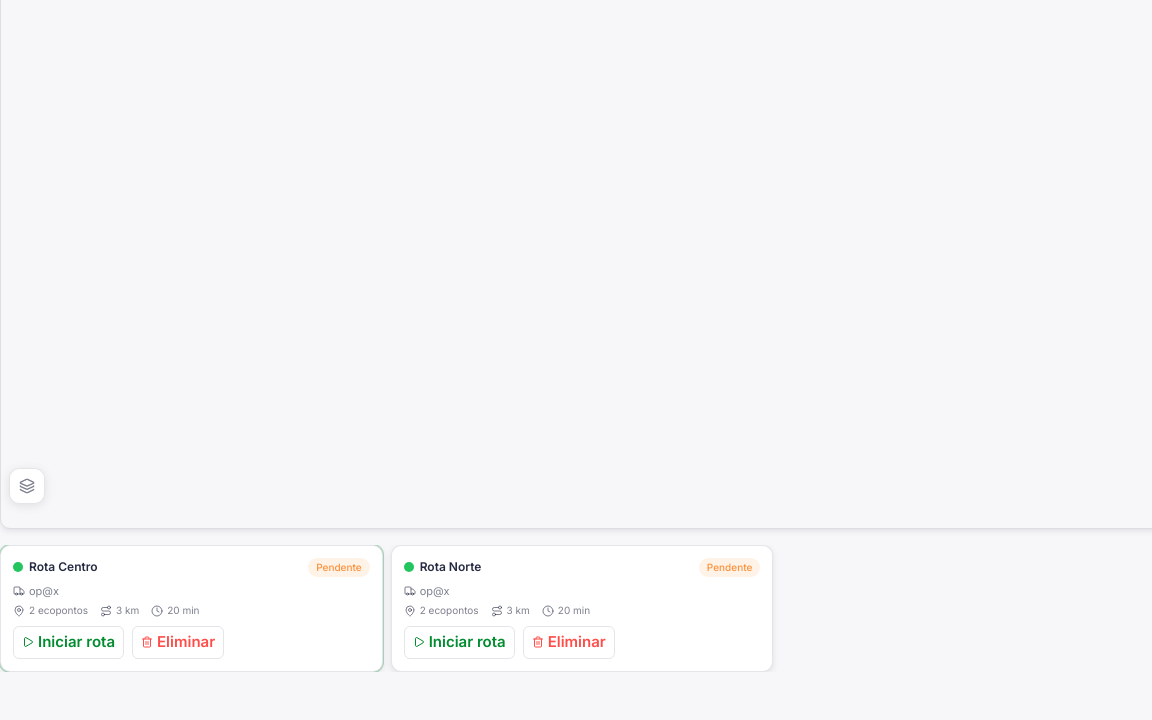
Test case: RotasPage — eliminar › gestor: confirma e elimina a rota (DELETE + sai da lista)
This screenshot has width=1152, height=720.
(page scrolled)
Click the button "Eliminar" below "Rota Centro" at (178, 642), box [132,626,224,658]
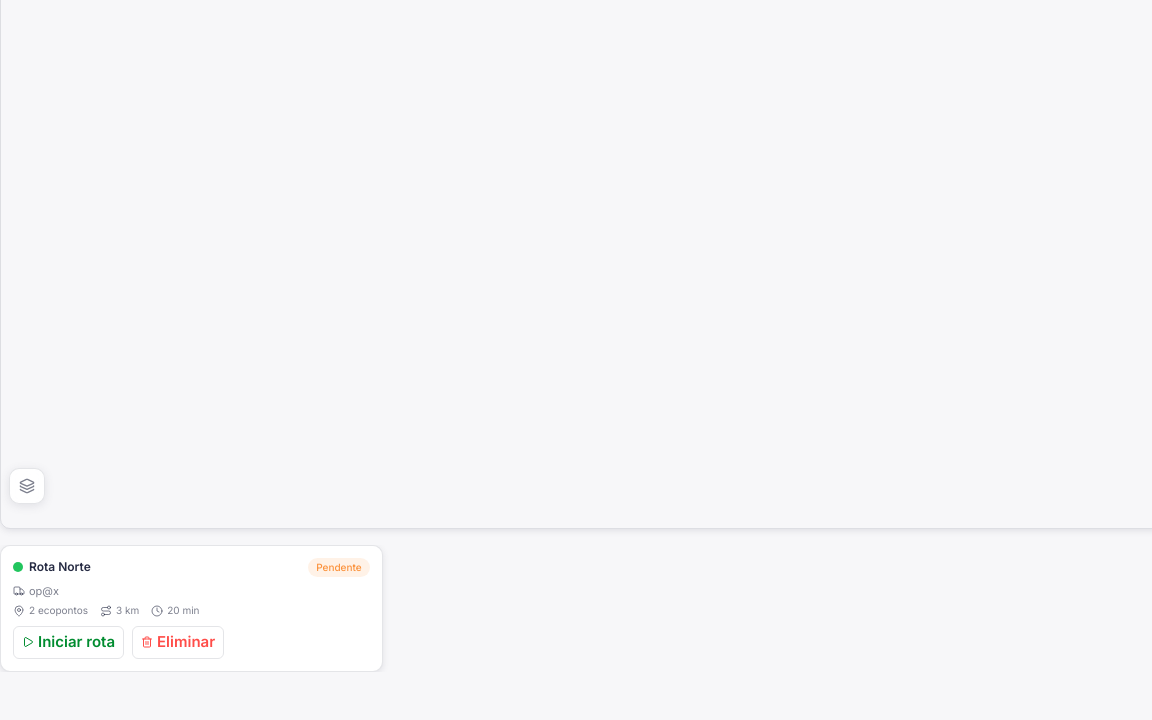
Expected: the text "Rota Norte" is shown, [29,559,91,575]
Expected: the text "Rota Centro" is gone
